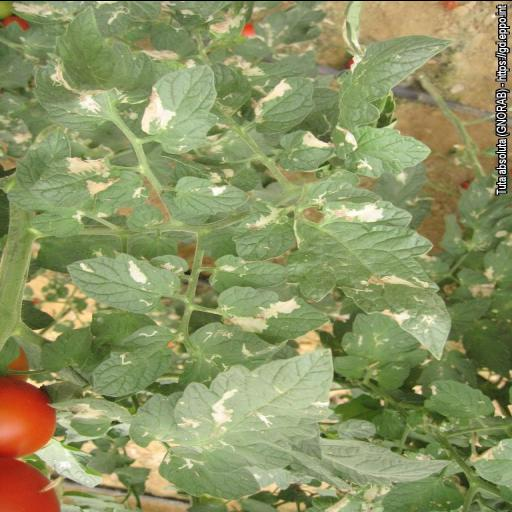Leaf Miner: (128, 344, 336, 502), (284, 179, 454, 359), (28, 3, 120, 130), (142, 60, 226, 158), (210, 283, 330, 341), (64, 252, 178, 310), (27, 154, 121, 208), (250, 72, 324, 136), (171, 175, 255, 215)
